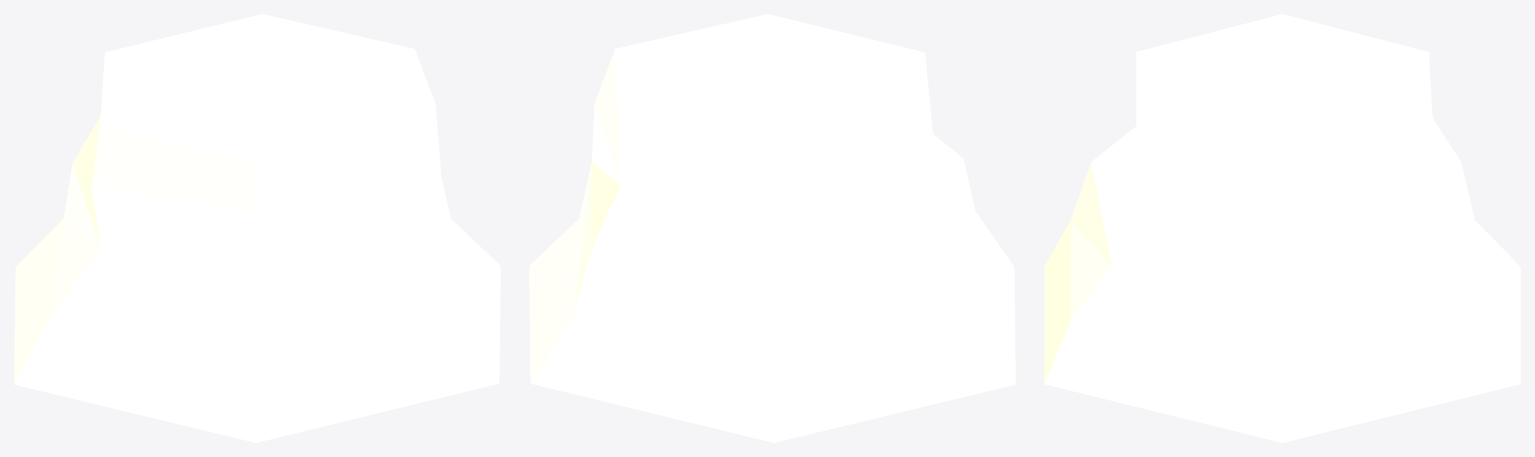
Rendered from hole.fbx.
3 views of the same model, side by side, from view 1: azimuth 30°, elevation 25°; view 2: azimuth 150°, elevation 25°; view 3: azimuth 270°, elevation 25° (orthographic).
Parts seen in each view (by area): view 1: Torus.001; view 2: Torus.001; view 3: Torus.001.
Part boxes in pixels (x1,y1,x2,y2): Torus.001: (14,14,500,442); Torus.001: (529,14,1015,442); Torus.001: (1044,14,1520,442).
Bounding box in the file's own units: 363 × 170 × 311.
